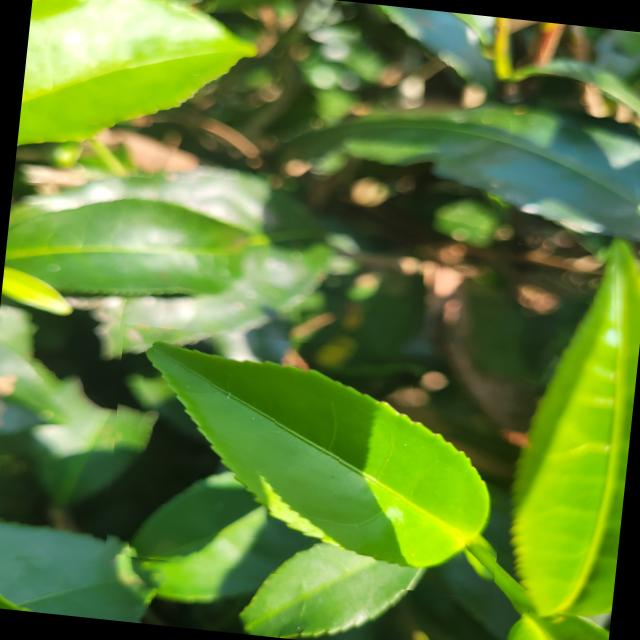Catagory A(1-2 days): (99, 323, 516, 600)
